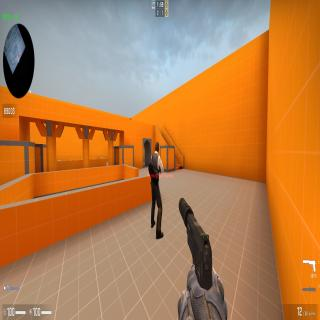T-Body: (149, 141, 164, 239)
T-Head: (155, 141, 159, 155)
